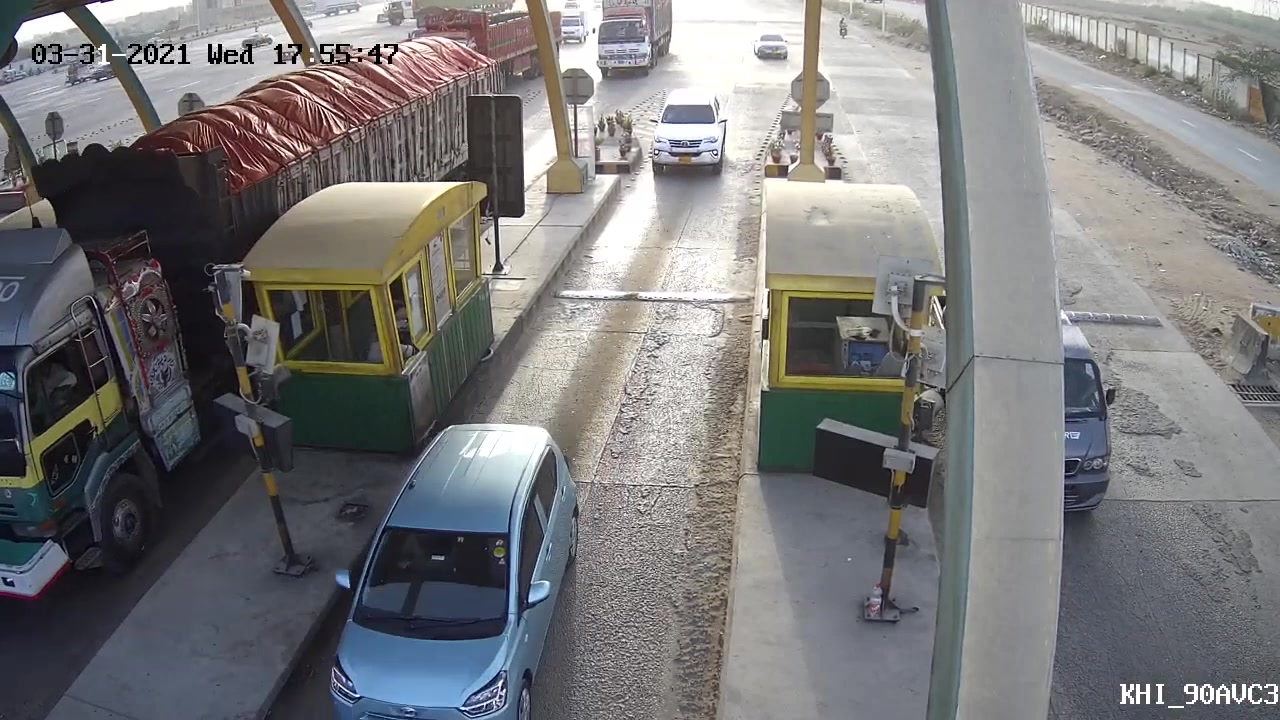F1: (650, 89, 732, 170)
